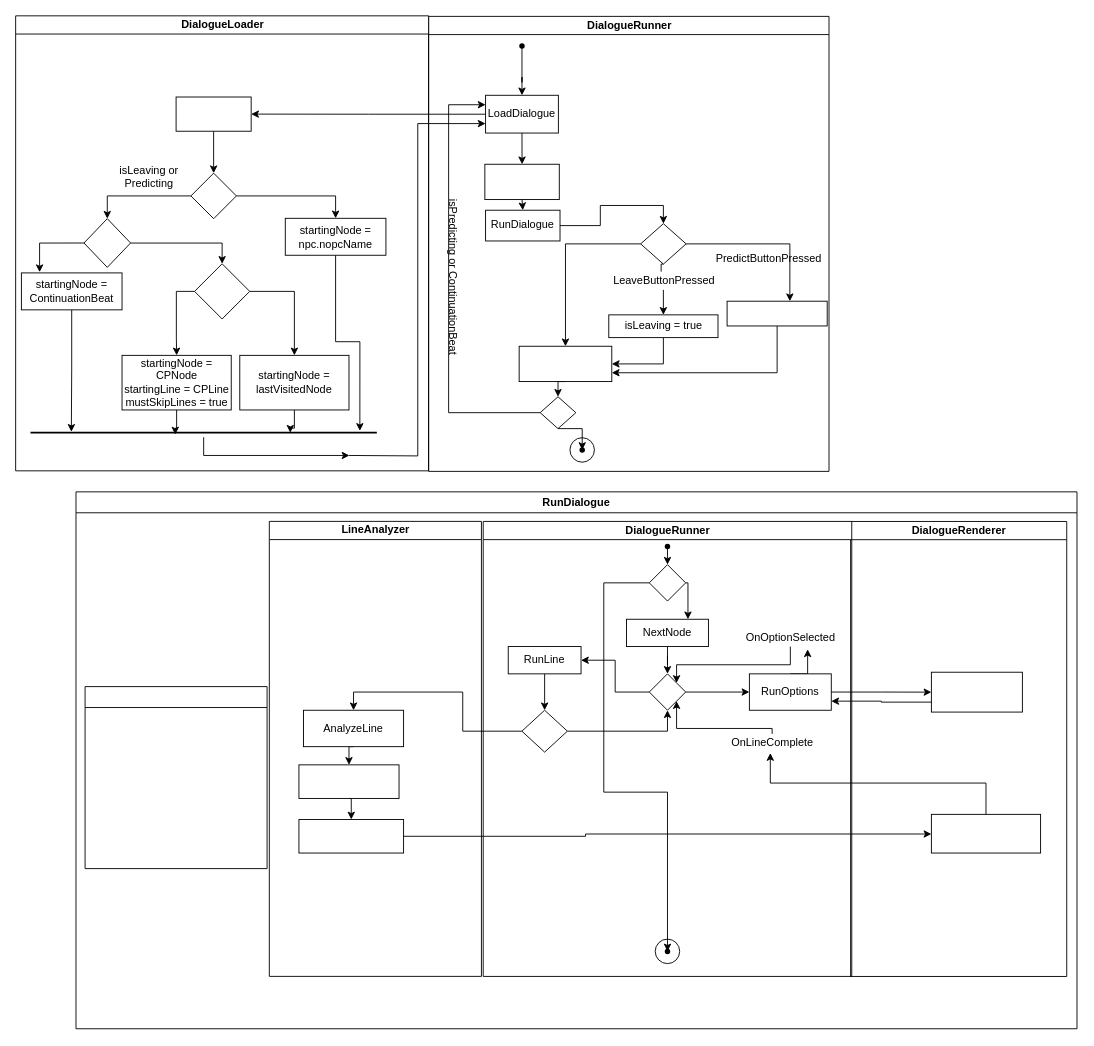
This 1094x1046 diagram has some shape labels left out. The shapes that lost their labels are listed below. From the top down, each one's centre as x and y in pixels, then its label:
At [213,113]: "Determine StartingPoint".
At [521,181]: "StartDialogue".
At [776,313]: "isPredicting = true".
At [565,363]: "EndDialogue".
At [976,691]: "GenerateOptions".
At [175,777]: "CheckPointHandler".
At [348,781]: "HandleCheckPoint".
At [351,836]: "DetermineSpeaker".
At [985,833]: "RenderSpeechbubble".
